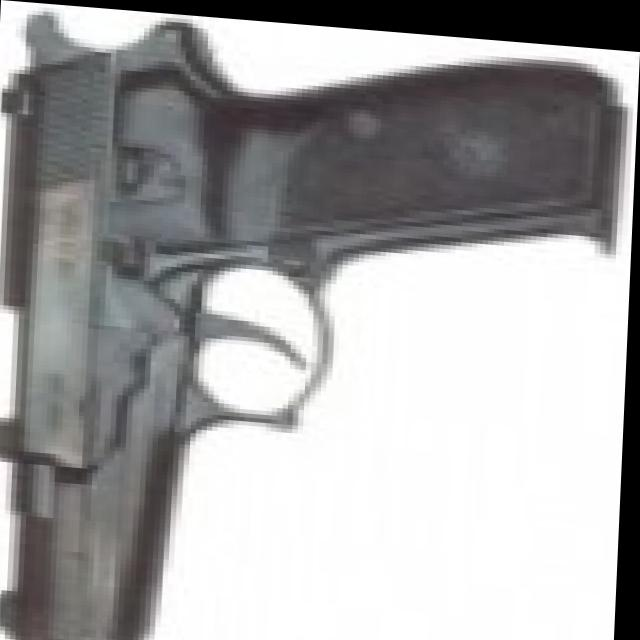handgun: (0, 16, 628, 640)
